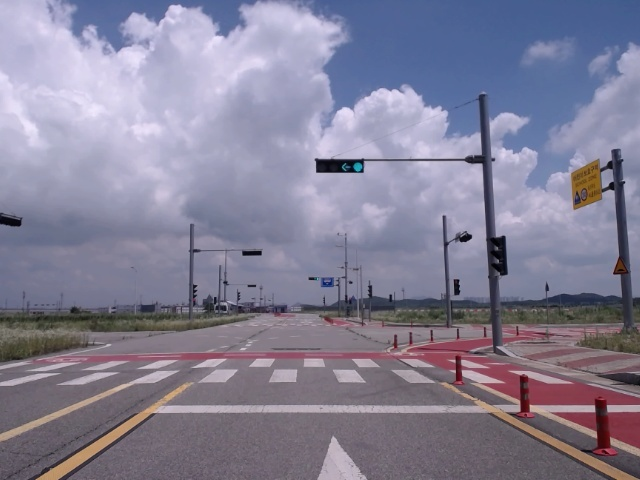all_green_4: (316, 159, 366, 175)
